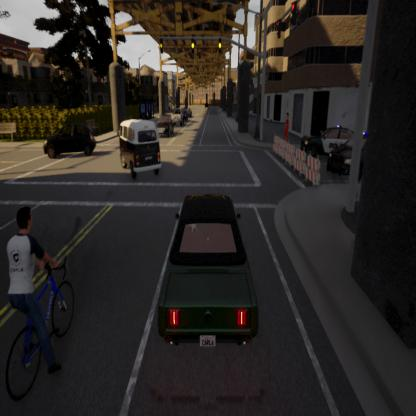Cars: (158, 195, 258, 347), (4, 206, 75, 402), (118, 118, 161, 177), (44, 124, 96, 159), (302, 126, 353, 152), (328, 138, 354, 175), (156, 113, 172, 136), (172, 107, 182, 126), (204, 101, 209, 108)
Pedestrian: (284, 109, 292, 146)
